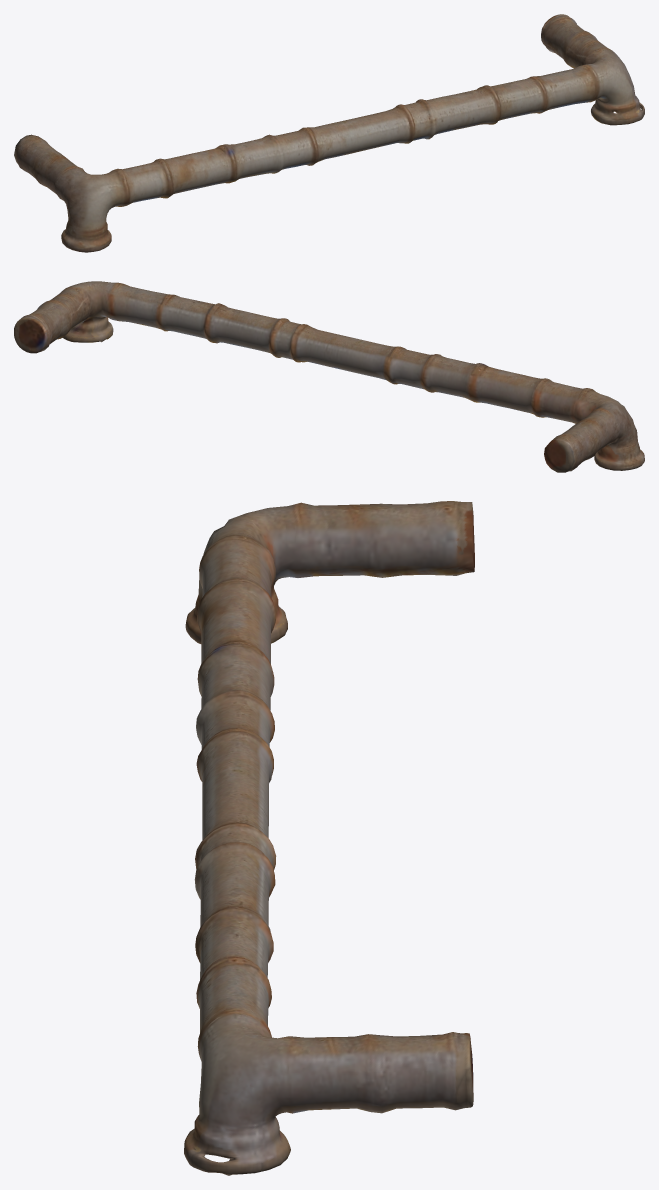
Rendered from Creepy_old_shining_pi_0124161631_stylize.fbx.
3 views of the same model, one above another, from view 1: azimuth 30°, elevation 25°; view 2: azimuth 150°, elevation 25°; view 3: azimuth 270°, elevation 25° (orthographic). The views are drawn at different scales.
Parts seen in each view (by area): view 1: Mesh_0.010; view 2: Mesh_0.010; view 3: Mesh_0.010.
Part boxes in pixels (x1,y1,x2,y2): Mesh_0.010: (14,14,644,252); Mesh_0.010: (14,281,644,472); Mesh_0.010: (184,501,474,1175).
Size of the model in its own units: 9058 by 1000 by 1981.
1 material, 1 textured.
